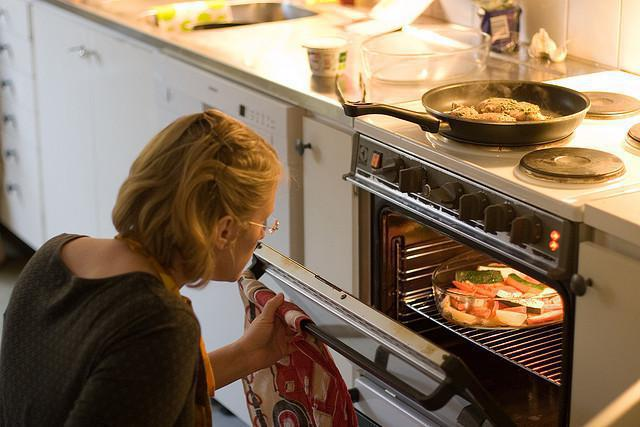Lavaplatos: (123, 0, 327, 33)
